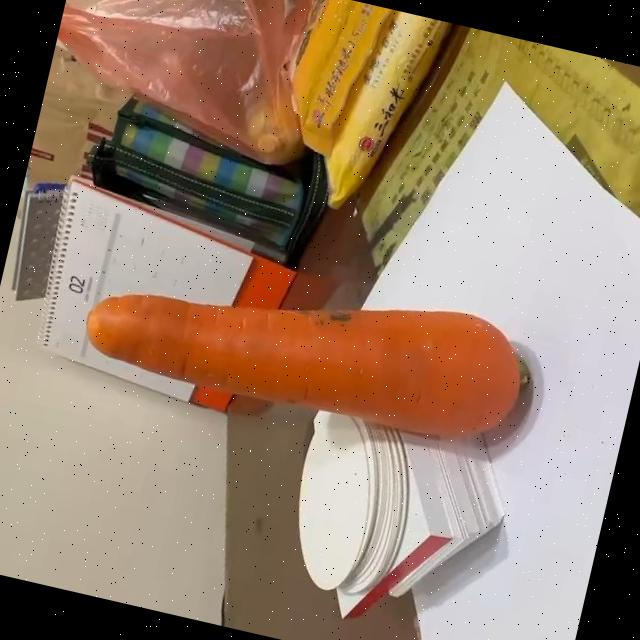carrot: (87, 293, 520, 435)
